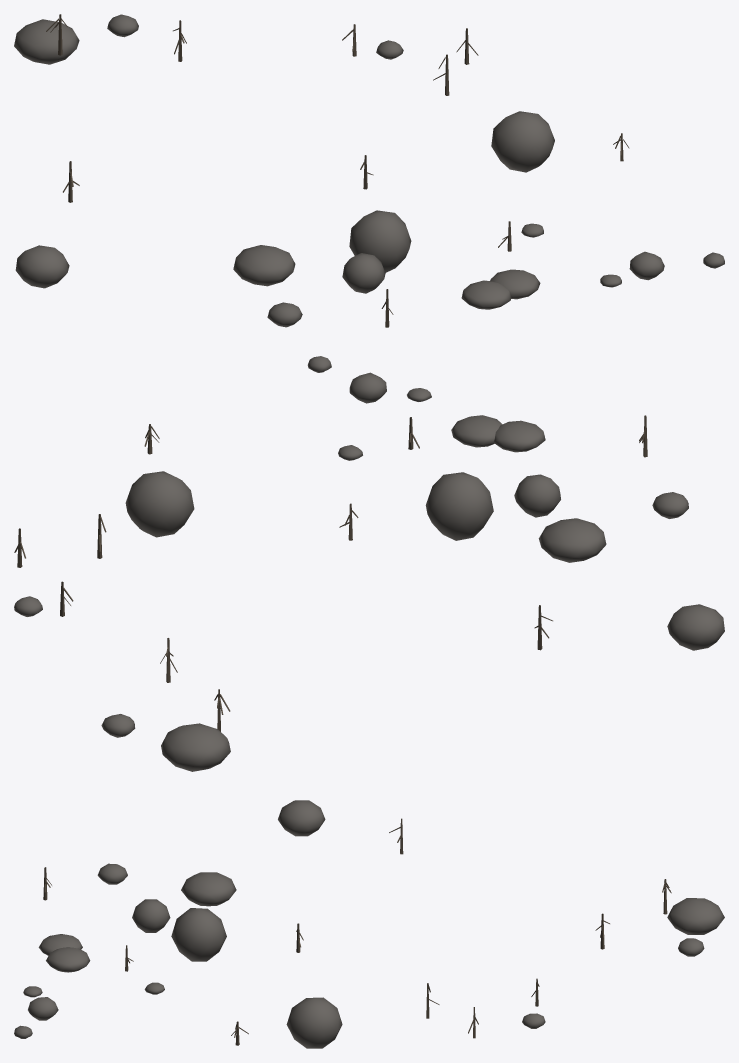
The model's file is biome_wild.glb.
The picture shows the model from 3 angles, top to bottom: view 1: azimuth 30°, elevation 25°; view 2: azimuth 150°, elevation 25°; view 3: azimuth 270°, elevation 25°; orthographic projection. The views are drawn at different scales.
Visible parts, largest first — view 1: wild_rock_6, wild_rock_4, wild_rock_10, wild_rock_0, wild_rock_5, wild_rock_8, wild_rock_1, wild_rock_12, wild_rock_14, wild_rock_13, wild_rock_3; view 2: wild_rock_4, wild_rock_6, wild_rock_10, wild_rock_0, wild_rock_5, wild_rock_8, wild_rock_1, wild_rock_12, wild_rock_14, wild_rock_13; view 3: wild_rock_4, wild_rock_6, wild_rock_10, wild_rock_0, wild_rock_5, wild_rock_8, wild_rock_12, wild_rock_1, wild_rock_14, wild_rock_13.
Boxes of the visible parts, x1=… form: wild_rock_6: x1=491, y1=111, x2=554, y2=172; wild_rock_4: x1=349, y1=210, x2=411, y2=272; wild_rock_10: x1=14, y1=19, x2=79, y2=64; wild_rock_0: x1=233, y1=245, x2=295, y2=286; wild_rock_5: x1=15, y1=245, x2=69, y2=288; wild_rock_8: x1=342, y1=253, x2=385, y2=293; wild_rock_1: x1=461, y1=280, x2=511, y2=309; wild_rock_12: x1=490, y1=269, x2=540, y2=299; wild_rock_14: x1=629, y1=251, x2=664, y2=280; wild_rock_13: x1=267, y1=302, x2=302, y2=327; wild_rock_3: x1=107, y1=14, x2=138, y2=37; wild_rock_4: x1=425, y1=472, x2=493, y2=540; wild_rock_6: x1=125, y1=471, x2=194, y2=537; wild_rock_10: x1=161, y1=723, x2=230, y2=771; wild_rock_0: x1=538, y1=518, x2=606, y2=562; wild_rock_5: x1=667, y1=604, x2=724, y2=650; wild_rock_8: x1=514, y1=474, x2=560, y2=517; wild_rock_1: x1=493, y1=420, x2=545, y2=452; wild_rock_12: x1=451, y1=415, x2=502, y2=447; wild_rock_14: x1=349, y1=372, x2=386, y2=403; wild_rock_13: x1=652, y1=492, x2=688, y2=518; wild_rock_4: x1=171, y1=908, x2=226, y2=961; wild_rock_6: x1=286, y1=997, x2=342, y2=1048; wild_rock_10: x1=667, y1=898, x2=724, y2=934; wild_rock_0: x1=181, y1=872, x2=236, y2=906; wild_rock_5: x1=278, y1=800, x2=325, y2=836; wild_rock_8: x1=132, y1=899, x2=170, y2=932; wild_rock_12: x1=46, y1=947, x2=90, y2=972; wild_rock_1: x1=38, y1=934, x2=82, y2=955; wild_rock_14: x1=28, y1=997, x2=58, y2=1020; wild_rock_13: x1=97, y1=863, x2=127, y2=884.
Size of the model in its own units: 71.51 by 8.54 by 89.73.
